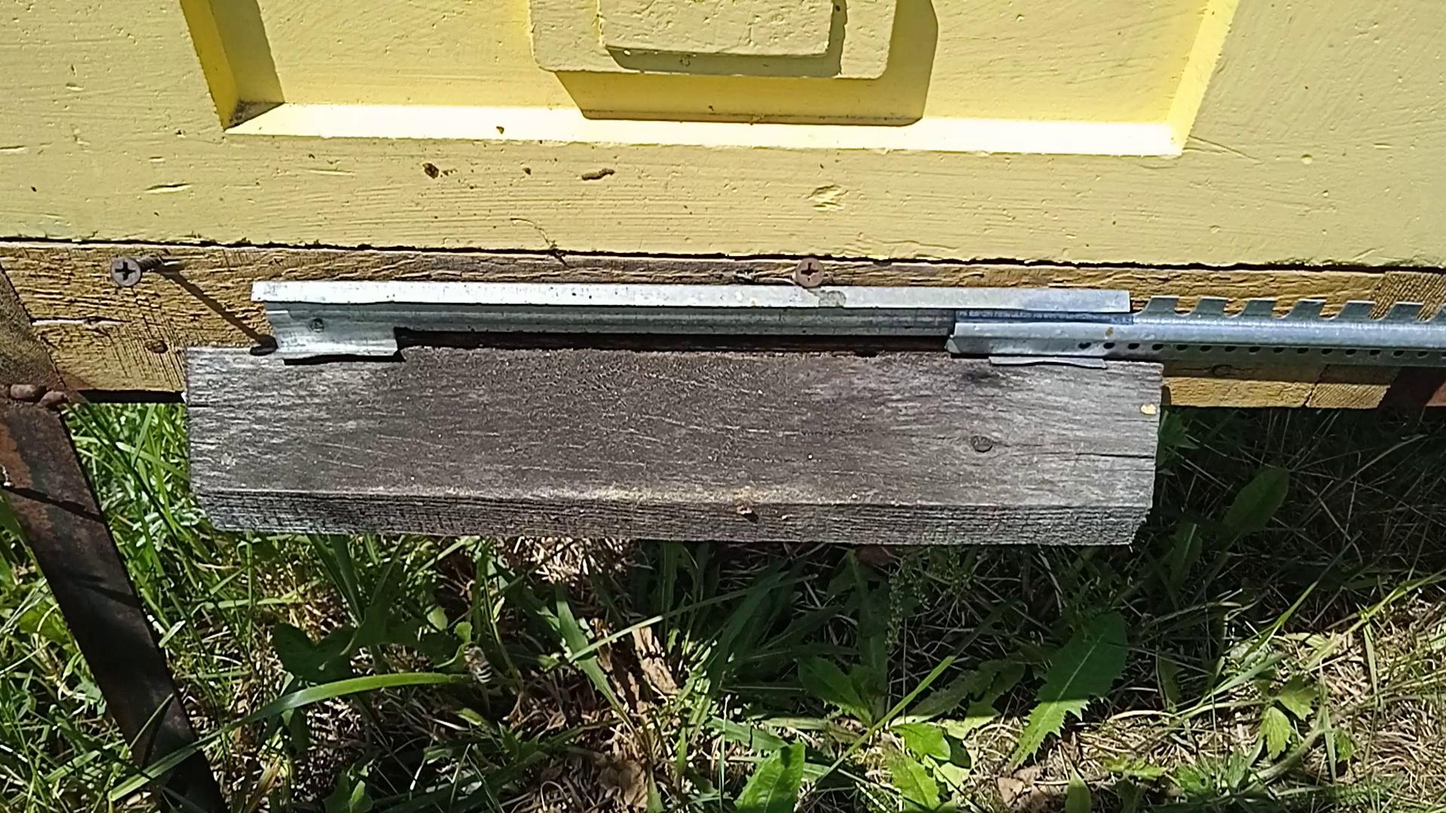worker-bee: (461, 642, 494, 686)
